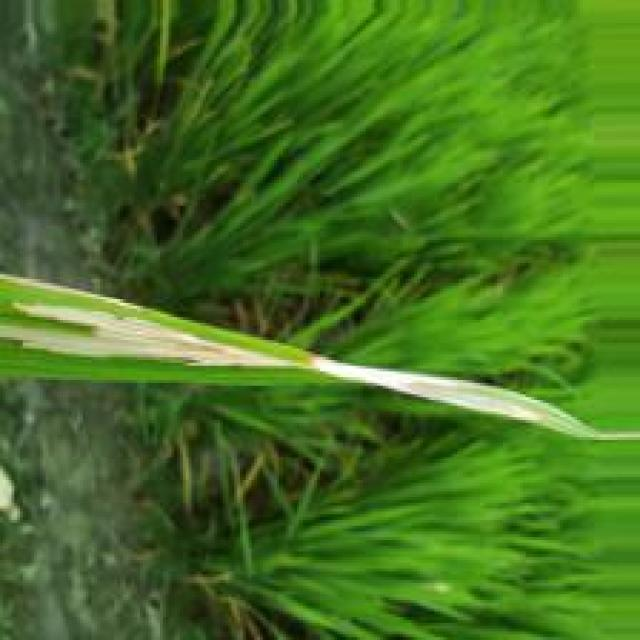Rice_Hispa: (307, 358, 583, 439), (0, 295, 304, 367)
